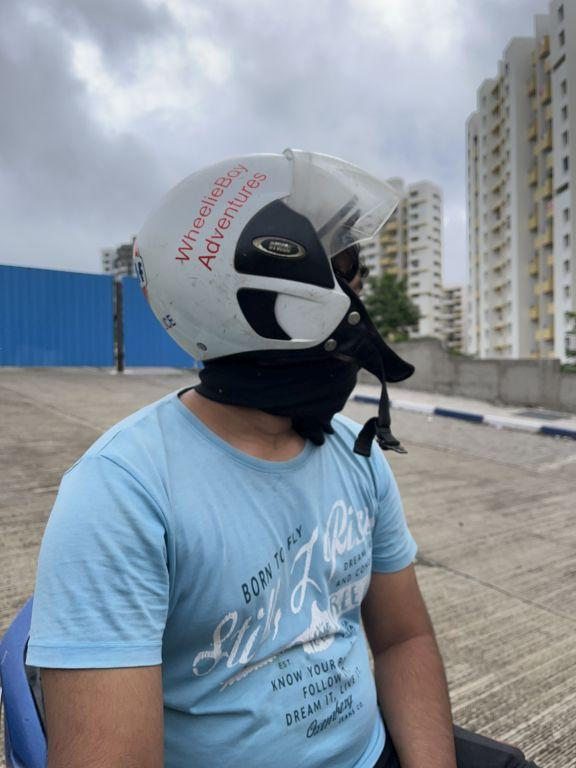helmet: (132, 139, 432, 395)
